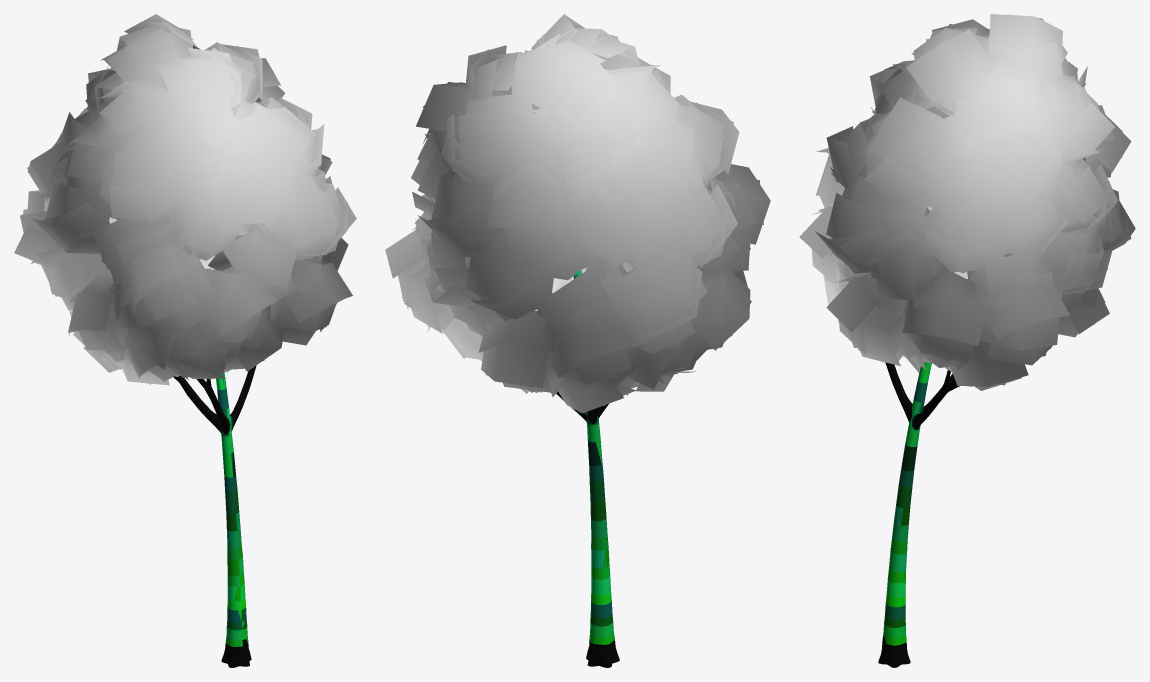
File: SM_tree_birch_02.fbx
3 views of the same model, side by side, from view 1: azimuth 30°, elevation 25°; view 2: azimuth 150°, elevation 25°; view 3: azimuth 270°, elevation 25° (orthographic). The views are drawn at different scales.
Parts seen in each view (by area): view 1: _142429; view 2: _142429; view 3: _142429.
Part boxes in pixels (<box>): _142429: <box>14,14,356,667</box>; _142429: <box>385,14,770,667</box>; _142429: <box>799,14,1135,667</box>.
Bounding box in the file's own units: 106 × 215 × 103.
